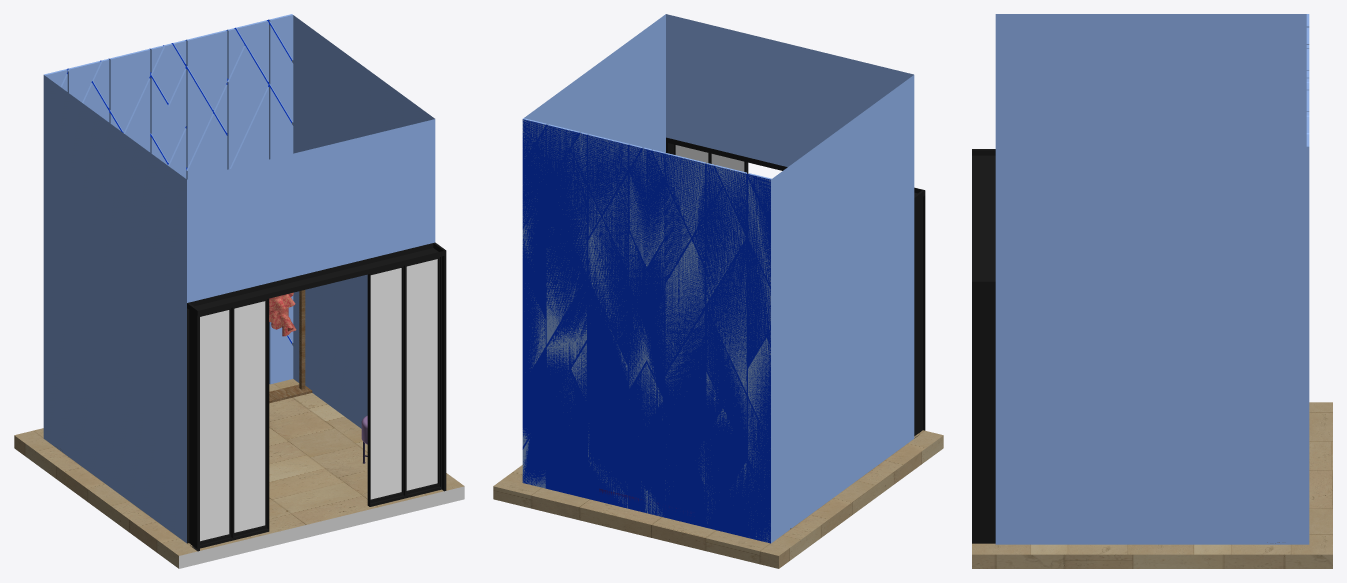
The model's file is boutique.glb.
The picture shows the model from 3 angles, left to right: view 1: azimuth 30°, elevation 25°; view 2: azimuth 150°, elevation 25°; view 3: azimuth 270°, elevation 25°; orthographic projection. The views are drawn at different scales.
Parts seen in each view (by area): view 1: Group1.2, Group12.24, floor, Group16.32, Group20.41, Group19.39, Group17.34, Group11.22, ground, hanger2, dress1; view 2: Group1.2, Group11.22, floor, Group12.24, Group20.41; view 3: Group1.2, floor, Group17.34, Group12.24.
Part boxes in pixels (x1=…): Group1.2: x1=43, y1=15, x2=446, y2=551; Group12.24: x1=168, y1=14, x2=293, y2=384; floor: x1=14, y1=379, x2=464, y2=568; Group16.32: x1=367, y1=265, x2=405, y2=506; Group20.41: x1=195, y1=307, x2=233, y2=548; Group19.39: x1=233, y1=298, x2=269, y2=540; Group17.34: x1=406, y1=256, x2=441, y2=498; Group11.22: x1=43, y1=44, x2=168, y2=418; ground: x1=179, y1=486, x2=464, y2=568; hanger2: x1=269, y1=290, x2=312, y2=403; dress1: x1=269, y1=292, x2=296, y2=336; Group1.2: x1=522, y1=14, x2=925, y2=543; Group11.22: x1=646, y1=148, x2=771, y2=542; floor: x1=493, y1=430, x2=943, y2=568; Group12.24: x1=522, y1=118, x2=647, y2=512; Group20.41: x1=914, y1=195, x2=920, y2=433; Group1.2: x1=972, y1=14, x2=1309, y2=544; floor: x1=972, y1=402, x2=1332, y2=568; Group17.34: x1=977, y1=267, x2=982, y2=543; Group12.24: x1=1306, y1=80, x2=1309, y2=544.
Bounding box in the file's own units: 138 × 174 × 138.
15 materials, 4 textured.
